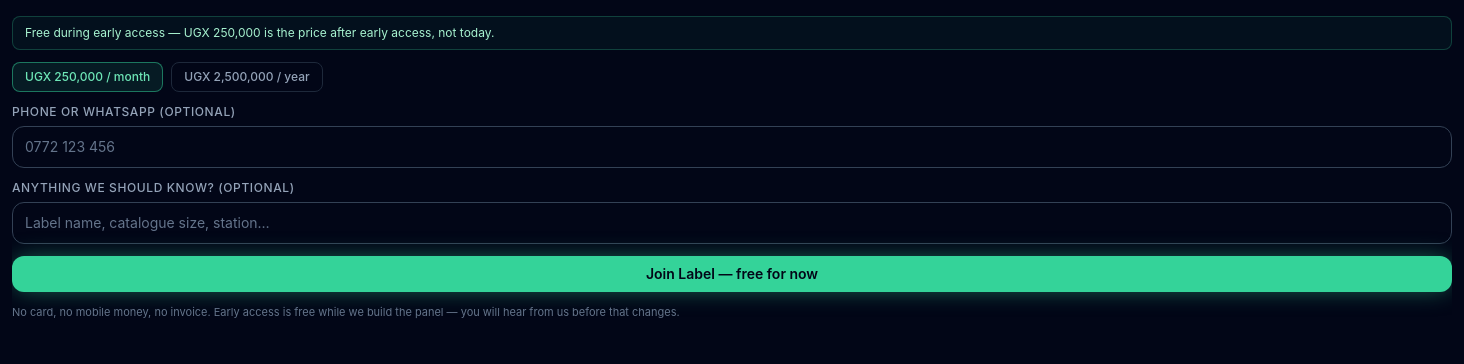
Test case: PlanRequest during early access › still rejects an obviously wrong number
Type "0414 123 456" into the field named "Contact number for the Label plan" at x=732, y=147, box [12,126,1452,168]
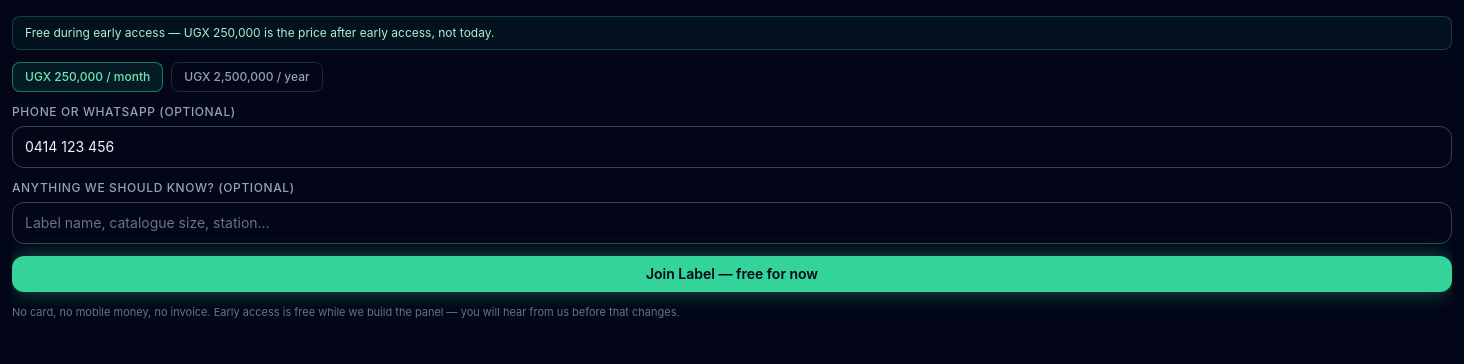
Click the button "Join Label — free for now" at x=732, y=274, box [12,256,1452,292]
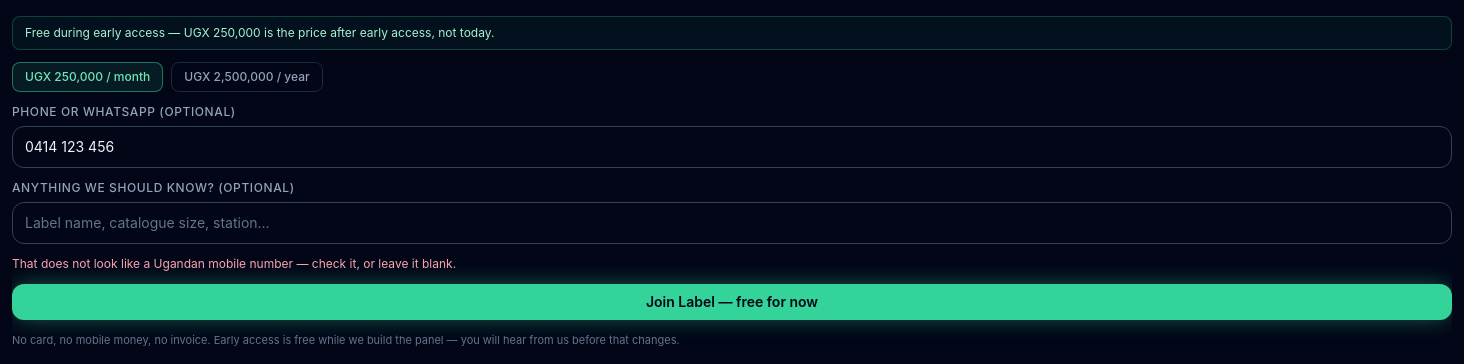
Expected: the message shows "Ugandan mobile", [12,256,456,271]
